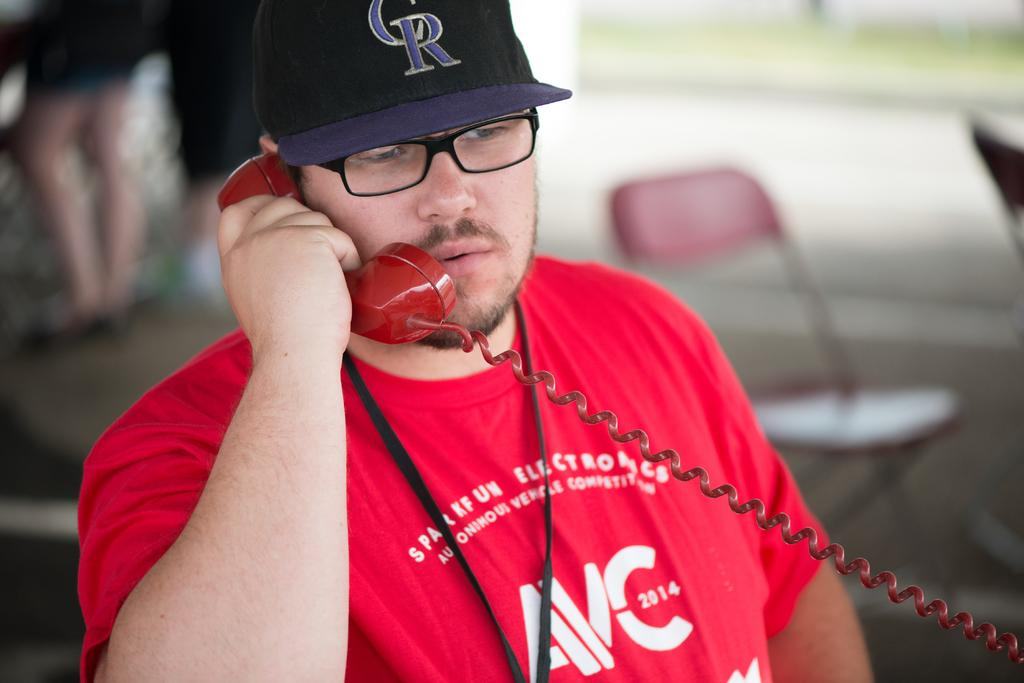Hat: (252, 0, 572, 167)
